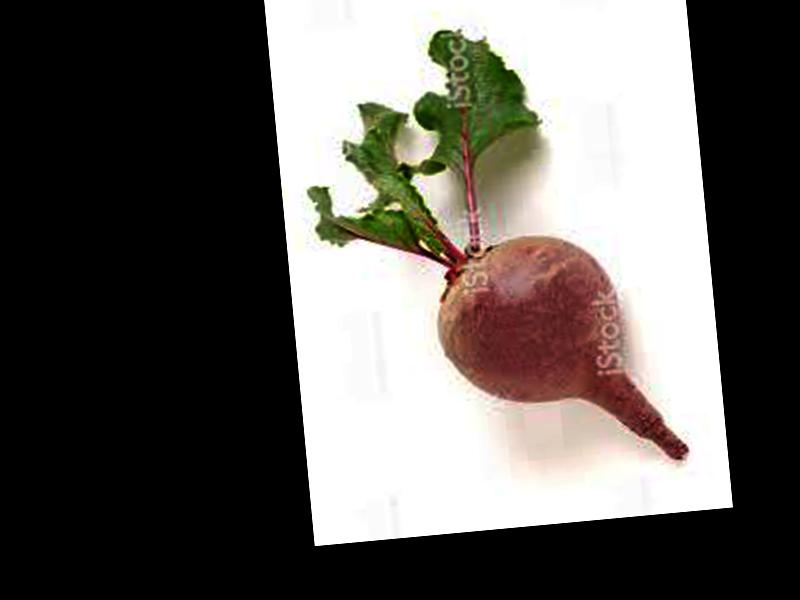Beet: (293, 10, 687, 490)
